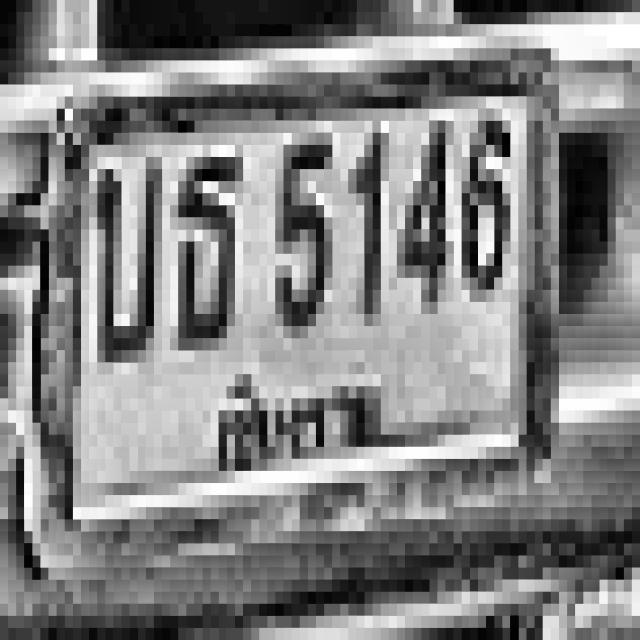license-plate: (35, 58, 562, 566)
